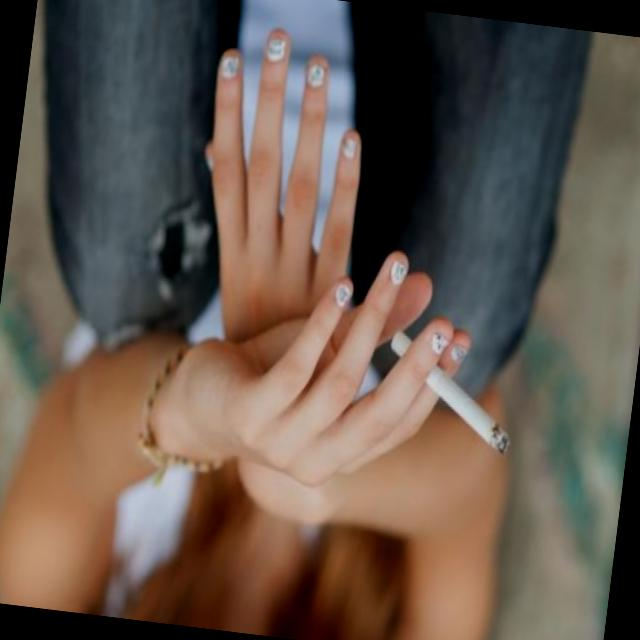smoke: (372, 310, 527, 461)
